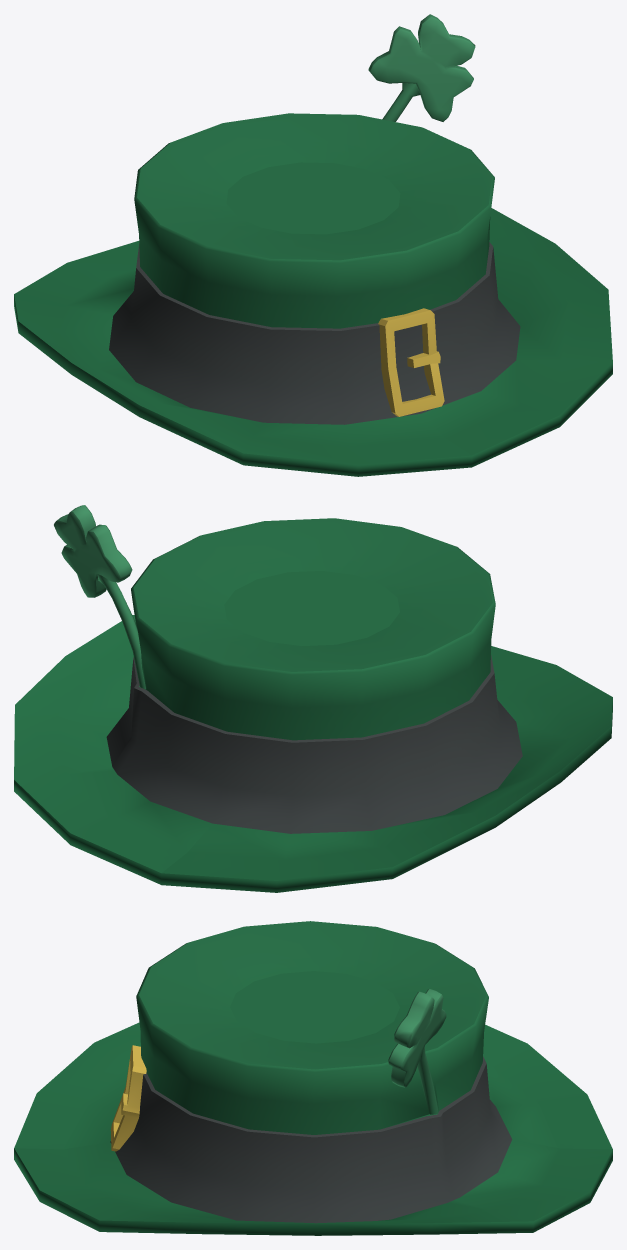
Rendered from Leprechaun_Hat.fbx.
3 views of the same model, one above another, from view 1: azimuth 30°, elevation 25°; view 2: azimuth 150°, elevation 25°; view 3: azimuth 270°, elevation 25° (orthographic). The views are drawn at different scales.
Parts seen in each view (by area): view 1: ScE.006; view 2: ScE.006; view 3: ScE.006.
Boxes of the visible parts, bbox=[...] form: ScE.006: bbox=[14, 14, 612, 476]; ScE.006: bbox=[14, 505, 612, 892]; ScE.006: bbox=[14, 921, 612, 1235].
Bounding box in the file's own units: 313 × 160 × 344.
